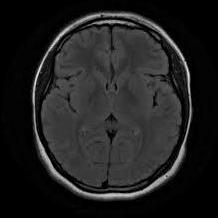Normal_Brain: (1, 1, 218, 218)
